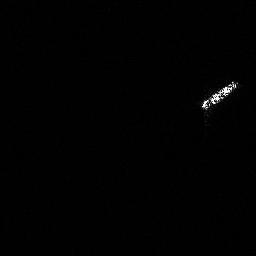ship: (199, 76, 241, 113)
